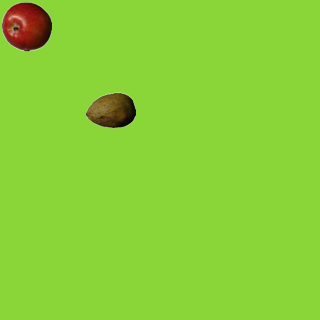Apple Braeburn: (1, 1, 51, 51)
Papaya: (85, 85, 135, 135)
